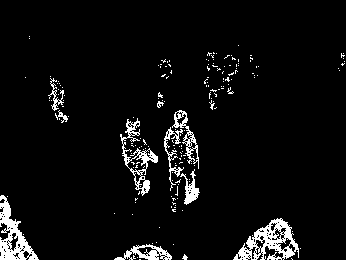person: (164, 109, 199, 214), (121, 116, 158, 195), (48, 73, 69, 124)
